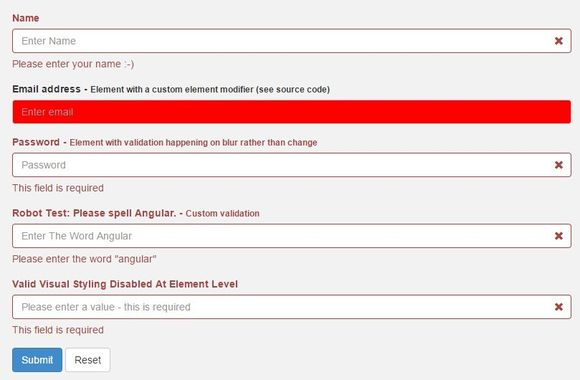error_field: (12, 98, 571, 124), (10, 13, 42, 22)
error_message: (11, 136, 318, 147), (11, 207, 261, 219), (13, 278, 239, 288), (10, 253, 157, 265), (11, 57, 136, 71), (12, 181, 105, 193), (11, 324, 106, 335)
